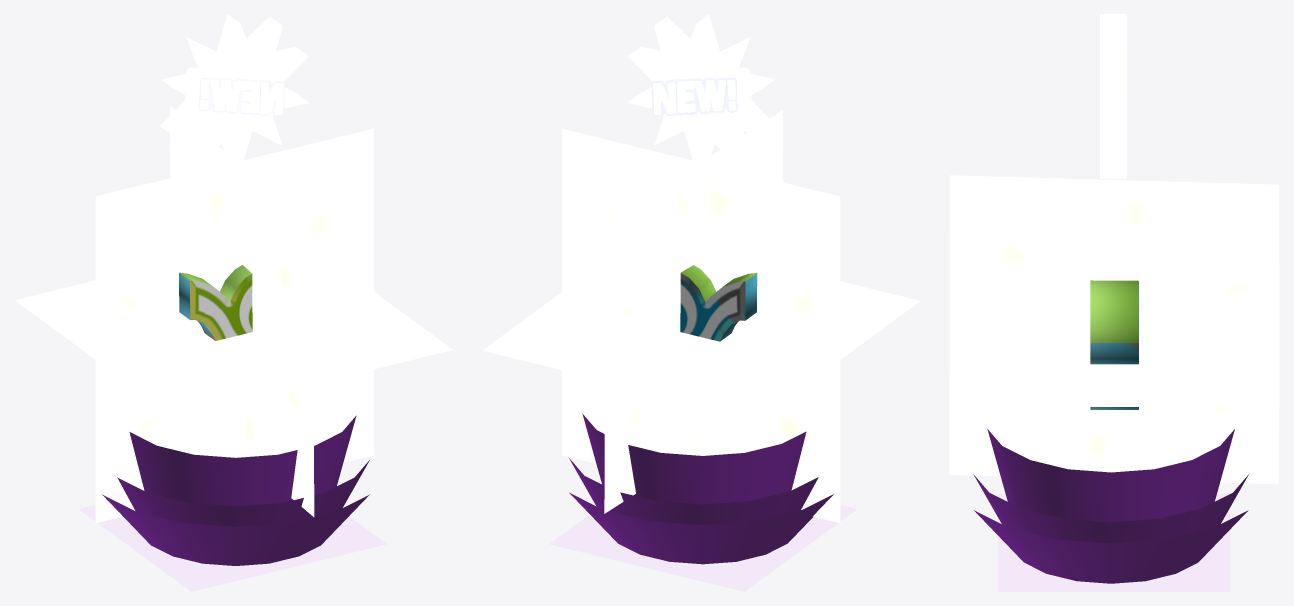
File: a_SWAlobby01.glb
3 renders of one model, left to right at view 1: azimuth 30°, elevation 25°; view 2: azimuth 150°, elevation 25°; view 3: azimuth 270°, elevation 25°, orthographic. The views are drawn at different scales.
Visible parts, largest first — view 1: a_SWAlobby01; view 2: a_SWAlobby01; view 3: a_SWAlobby01.
Boxes of the visible parts, <box> form: a_SWAlobby01: <box>15,14,452,591</box>; a_SWAlobby01: <box>482,14,920,591</box>; a_SWAlobby01: <box>949,14,1279,591</box>.
Bounding box in the file's own units: 1.74 × 3.06 × 1.74.
13 materials, 13 textured.
